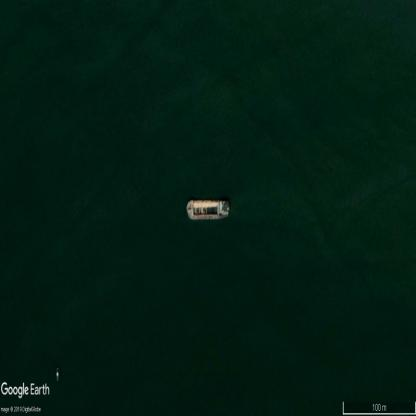ship: (187, 200, 229, 220)
